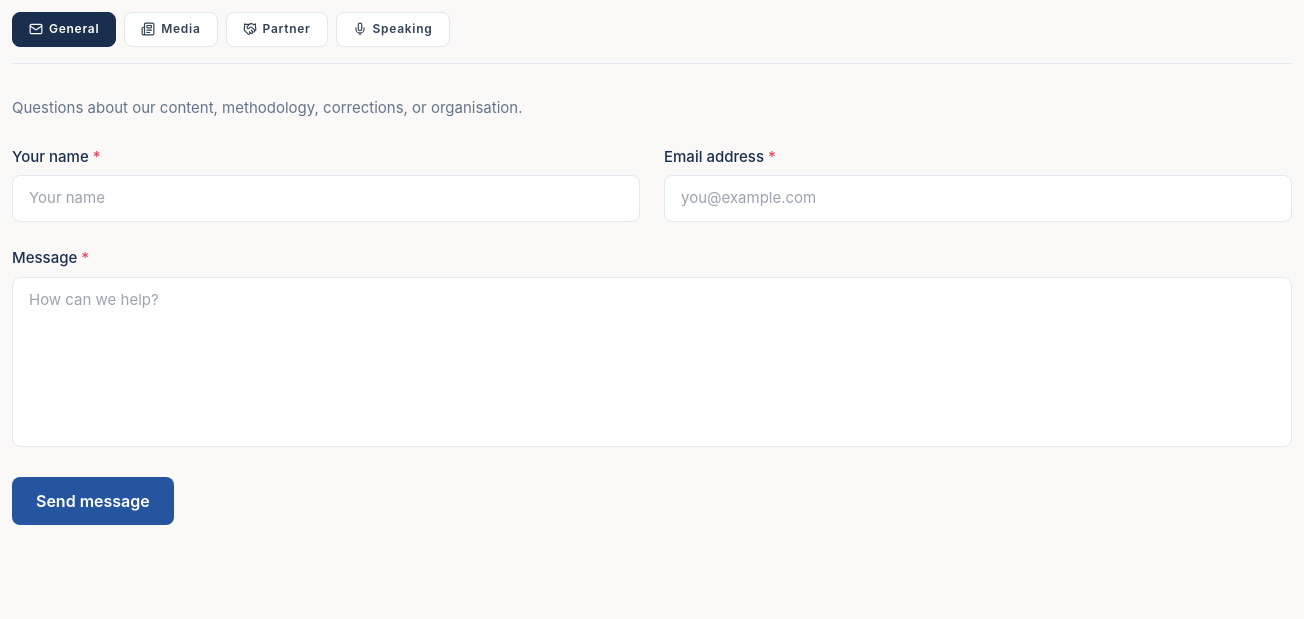
ContactForms › switches to media form tab
The image size is (1304, 619).
Click the button "Media": point(171, 29) [124,12,218,47]
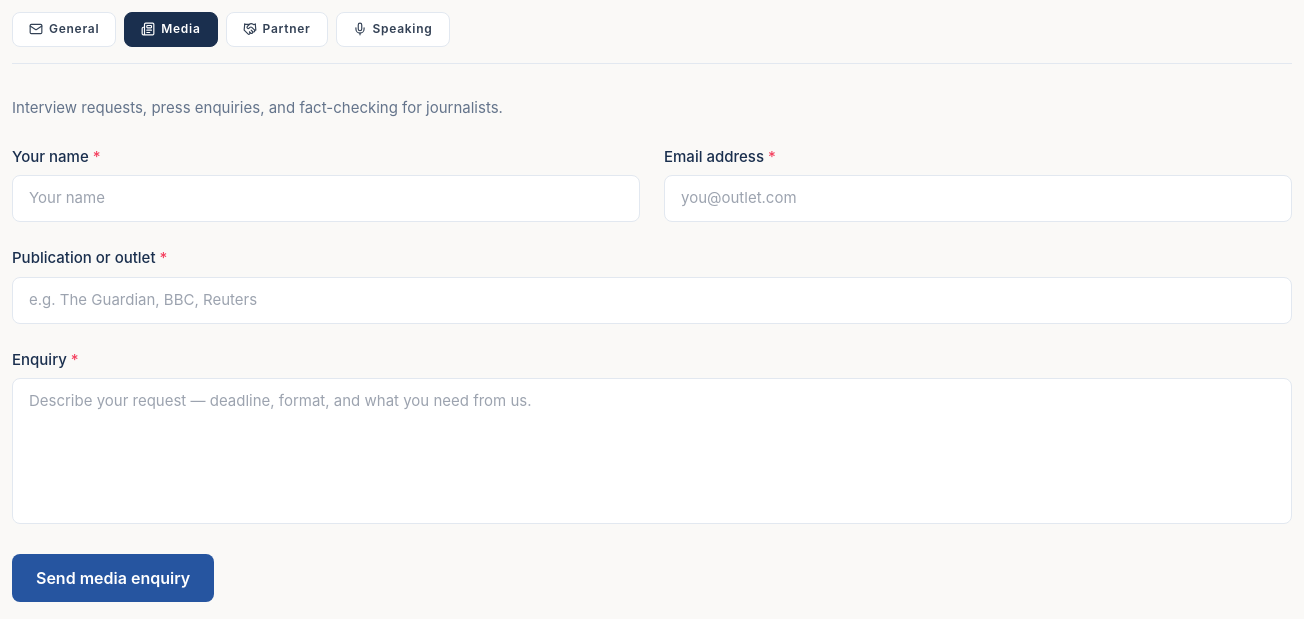
Result: the field labelled "Publication or outlet*" is shown at [12,277,1292,324]
